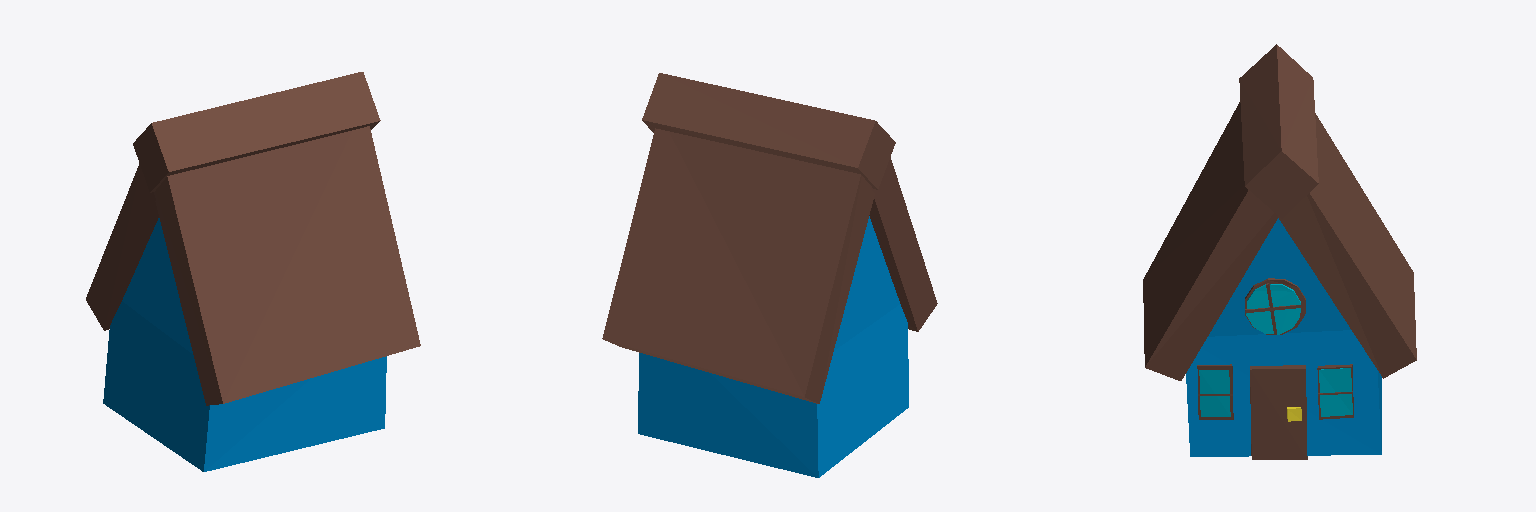
Rendered from House.obj.
3 views of the same model, side by side, from view 1: azimuth 30°, elevation 25°; view 2: azimuth 150°, elevation 25°; view 3: azimuth 270°, elevation 25° (orthographic).
Parts seen in each view (by area): view 1: Town.010_mesh[number redacted].015; view 2: Town.010_mesh[number redacted].015; view 3: Town.010_mesh[number redacted].015.
Part boxes in pixels (x1,y1,x2,y2): Town.010_mesh[number redacted].015: (86, 72, 420, 471); Town.010_mesh[number redacted].015: (602, 73, 937, 477); Town.010_mesh[number redacted].015: (1143, 44, 1416, 459).
Bounding box in the file's own units: 0.4199 × 0.5946 × 0.4609.